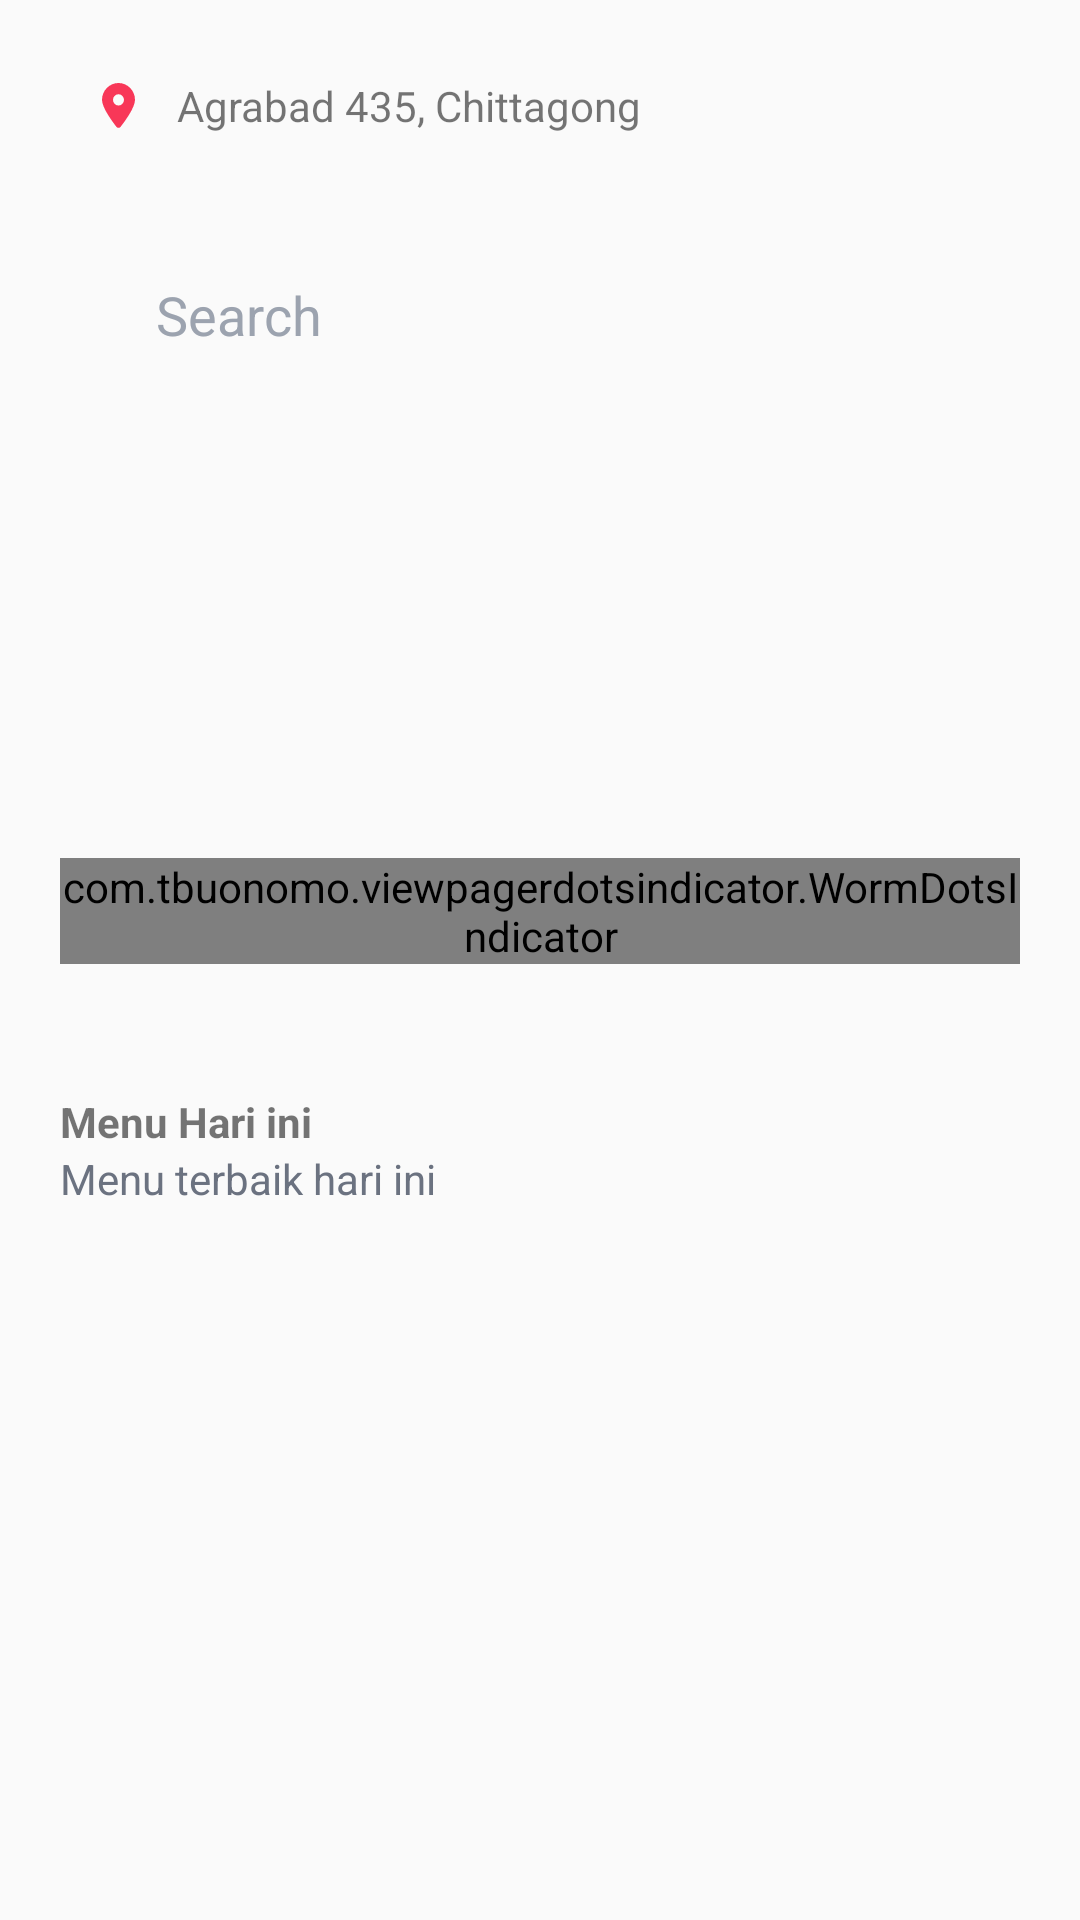

Icons on this 1080×1920 Android screen, each with its box as (x1, y1, x2, y2):
location: (102, 83, 135, 128)
